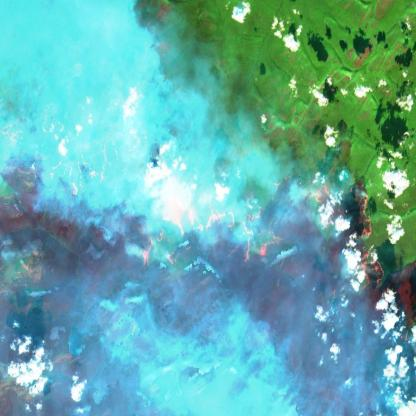fire: (0, 105, 416, 345)
